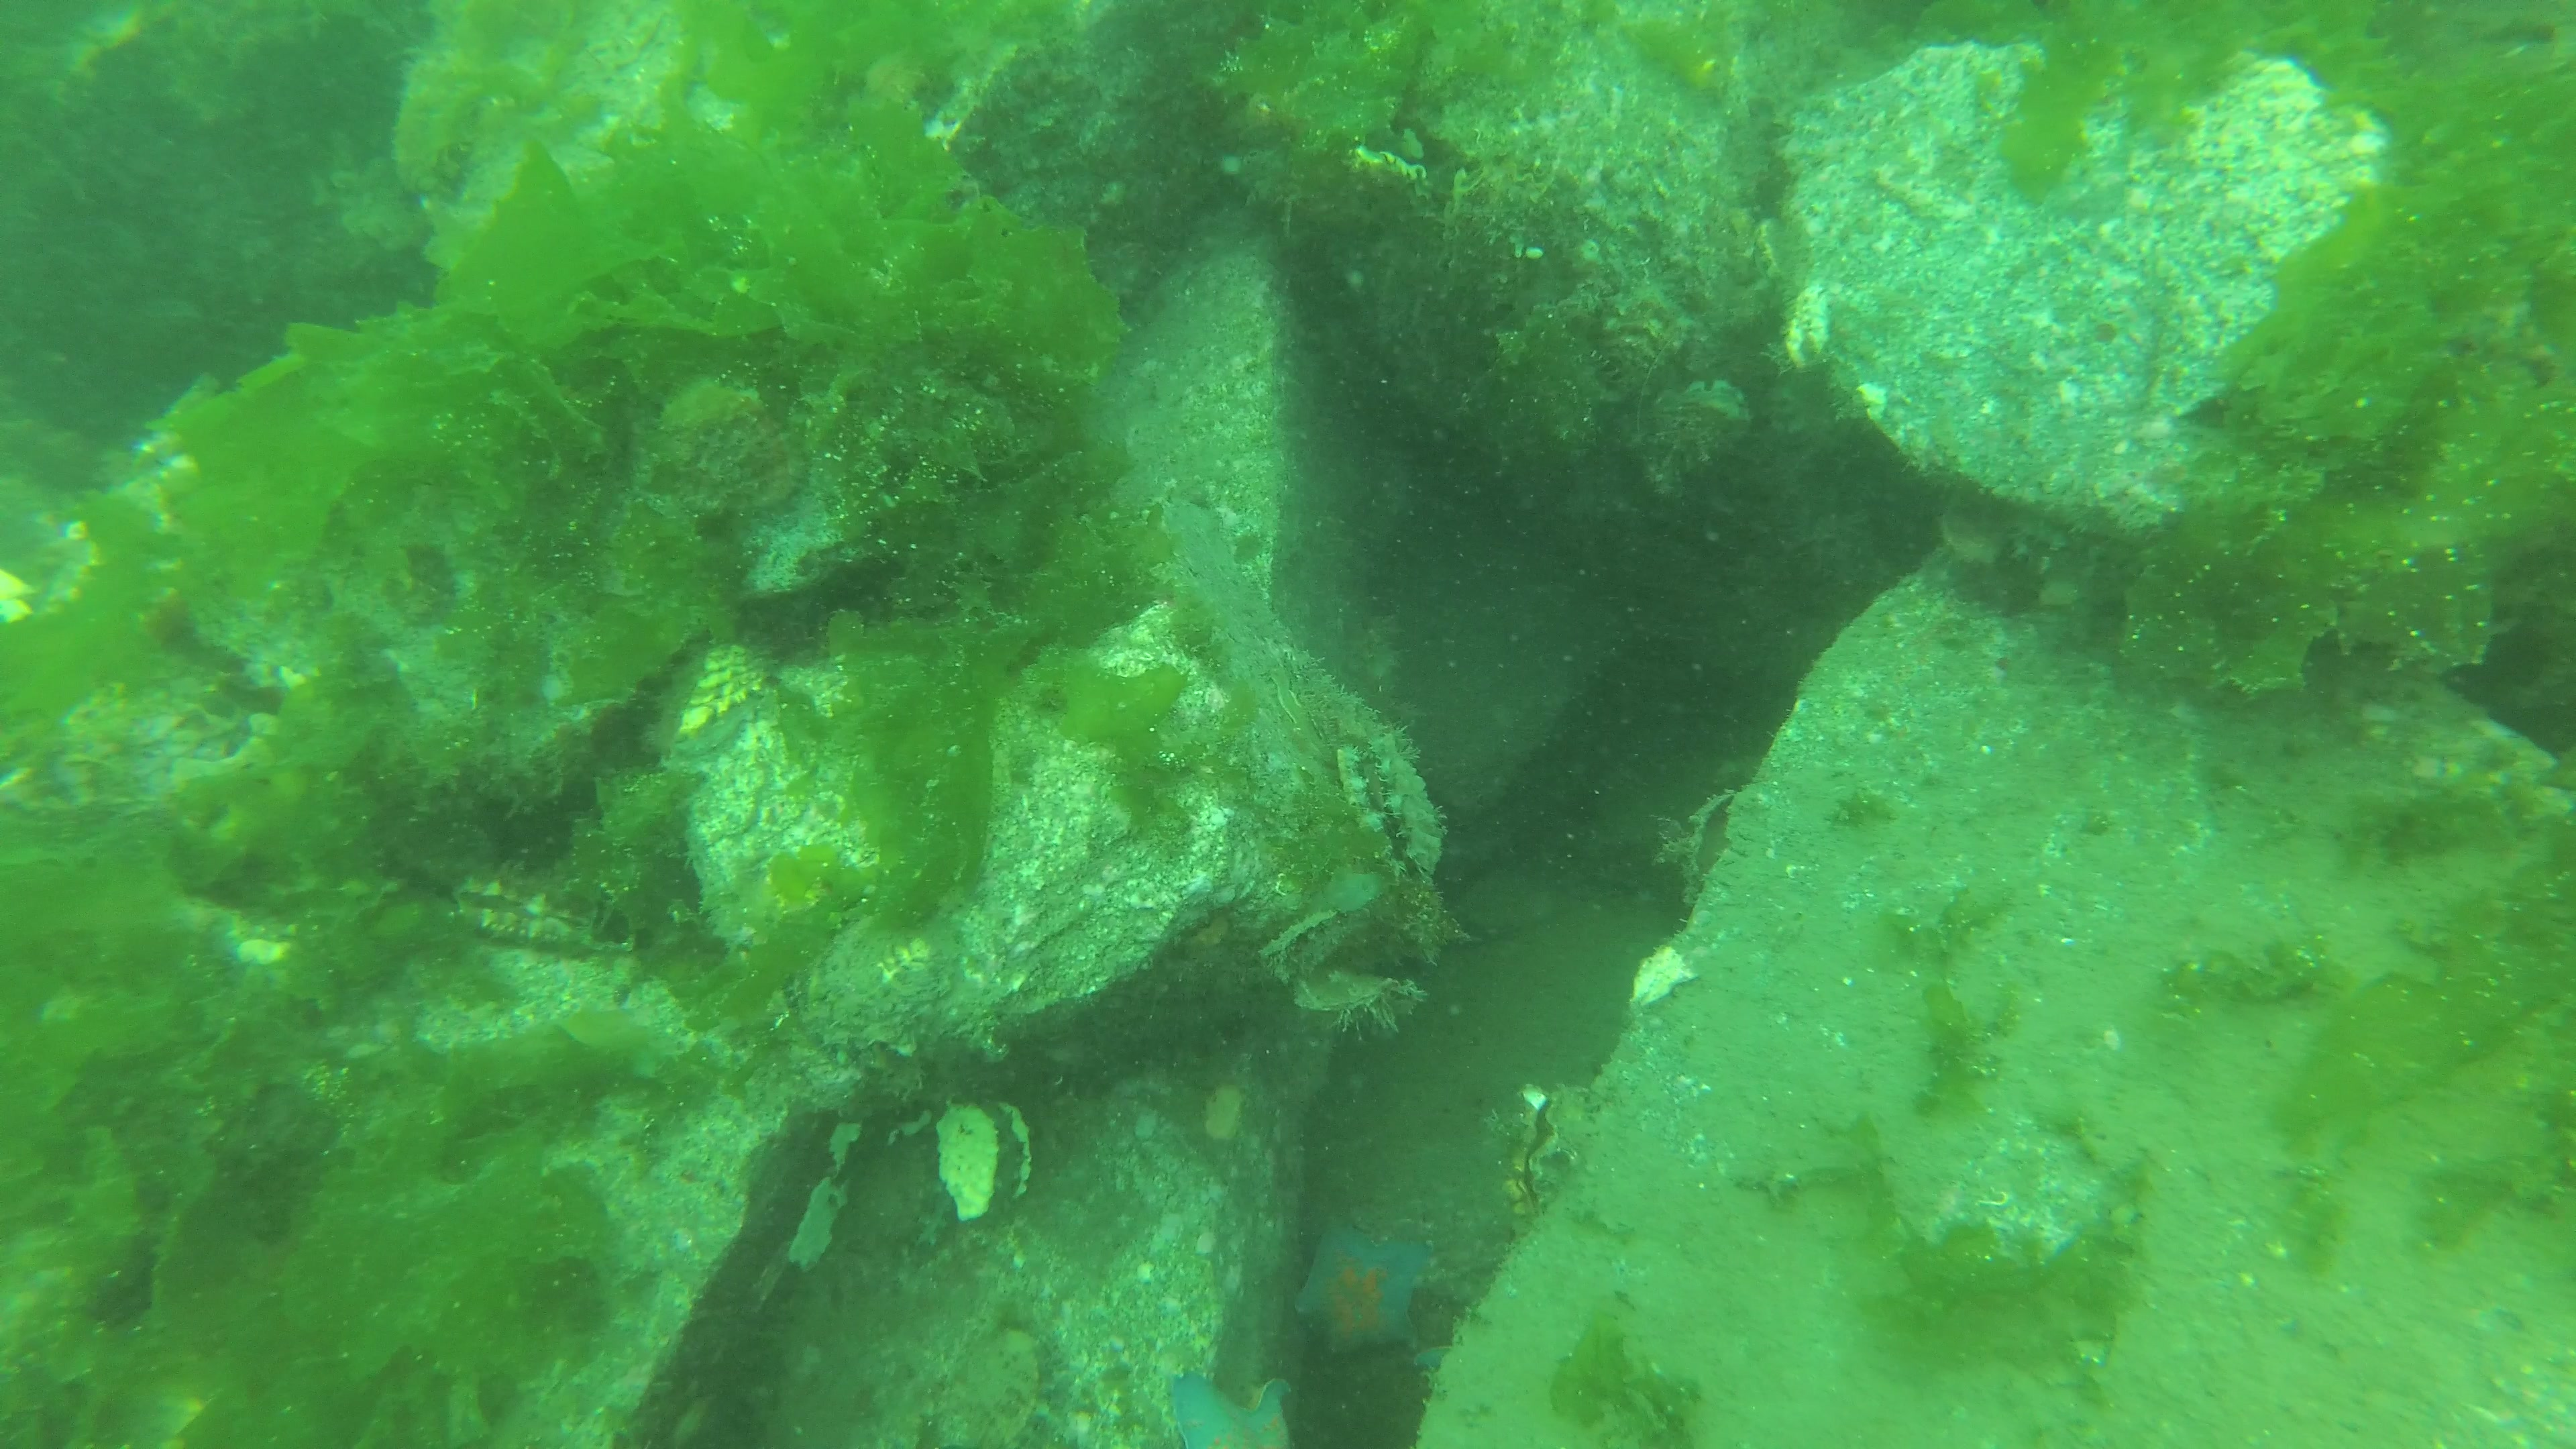starfish: (1293, 1217, 1442, 1357), (1162, 1371, 1299, 1449)
